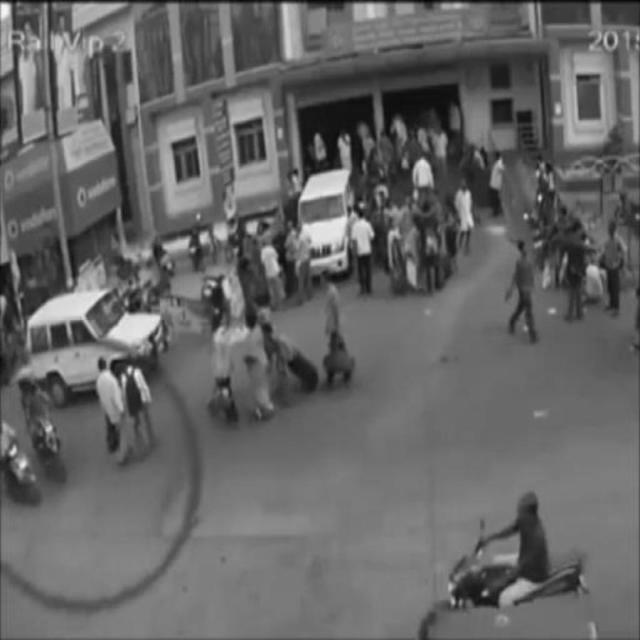person: (94, 355, 132, 465), (242, 310, 277, 423), (510, 237, 538, 347)
vehicle: (417, 490, 588, 640), (28, 285, 168, 405), (300, 168, 352, 272)
